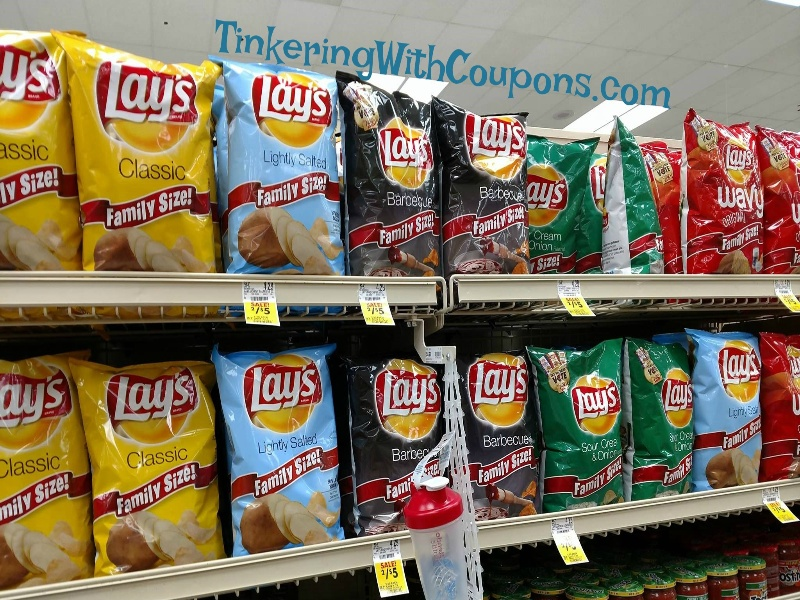lays-large: (76, 53, 221, 264), (217, 58, 343, 274), (90, 363, 212, 574), (220, 364, 350, 535), (1, 363, 90, 574), (1, 18, 75, 270), (435, 88, 528, 272), (349, 88, 435, 276), (356, 362, 446, 535), (530, 351, 630, 500), (673, 113, 760, 274), (695, 332, 760, 494), (526, 134, 598, 277), (475, 353, 530, 524), (628, 343, 686, 498)
